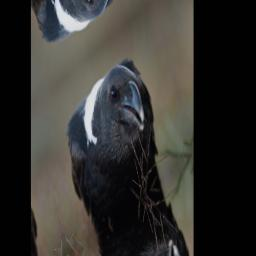Crow: (57, 44, 169, 239)
